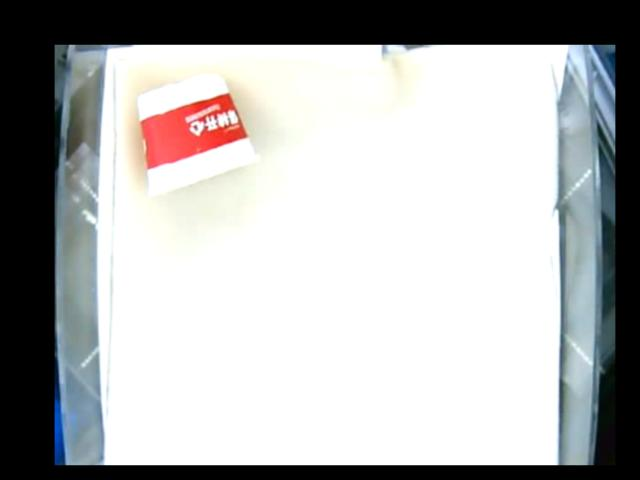Cup: (135, 71, 251, 196)
